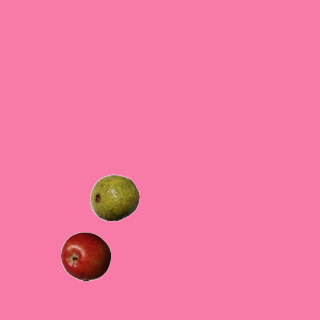Apple Braeburn: (60, 231, 110, 281)
Guava: (89, 172, 139, 222)
